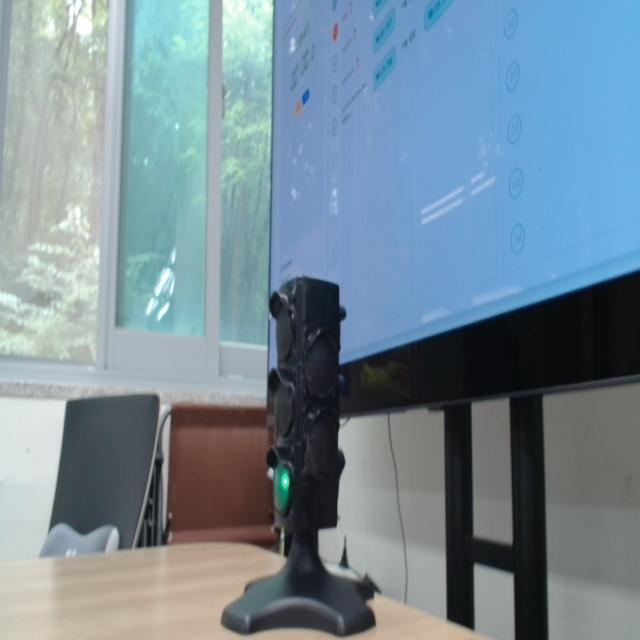green_light: (274, 465, 291, 514)
